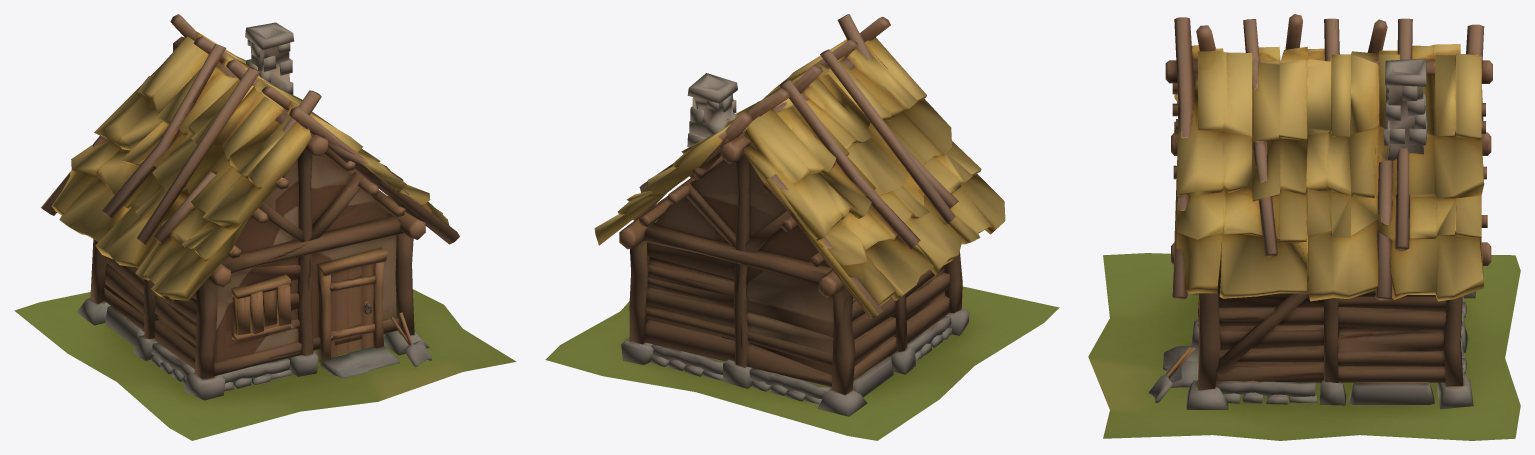
The model's file is selected.fbx.
3 views of the same model, side by side, from view 1: azimuth 30°, elevation 25°; view 2: azimuth 150°, elevation 25°; view 3: azimuth 270°, elevation 25° (orthographic). The views are drawn at different scales.
Parts seen in each view (by area): view 1: tripo_node_d9f08c4a-d3a2-4298-8e39-b05ac88cea1c; view 2: tripo_node_d9f08c4a-d3a2-4298-8e39-b05ac88cea1c; view 3: tripo_node_d9f08c4a-d3a2-4298-8e39-b05ac88cea1c.
Part boxes in pixels (x1,y1,x2,y2): tripo_node_d9f08c4a-d3a2-4298-8e39-b05ac88cea1c: [14, 14, 516, 440]; tripo_node_d9f08c4a-d3a2-4298-8e39-b05ac88cea1c: [545, 14, 1059, 440]; tripo_node_d9f08c4a-d3a2-4298-8e39-b05ac88cea1c: [1088, 14, 1520, 440].
Bounding box in the file's own units: 99.8 × 81.05 × 97.07.
Materials: 1 (1 with a texture image).
